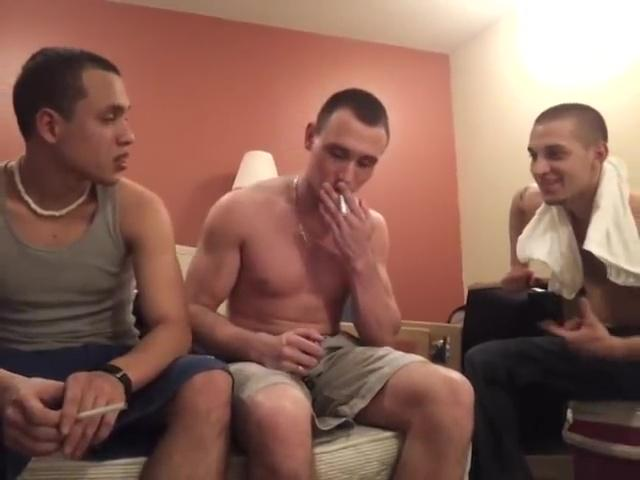cigarette: (74, 399, 129, 427), (338, 189, 350, 216)
